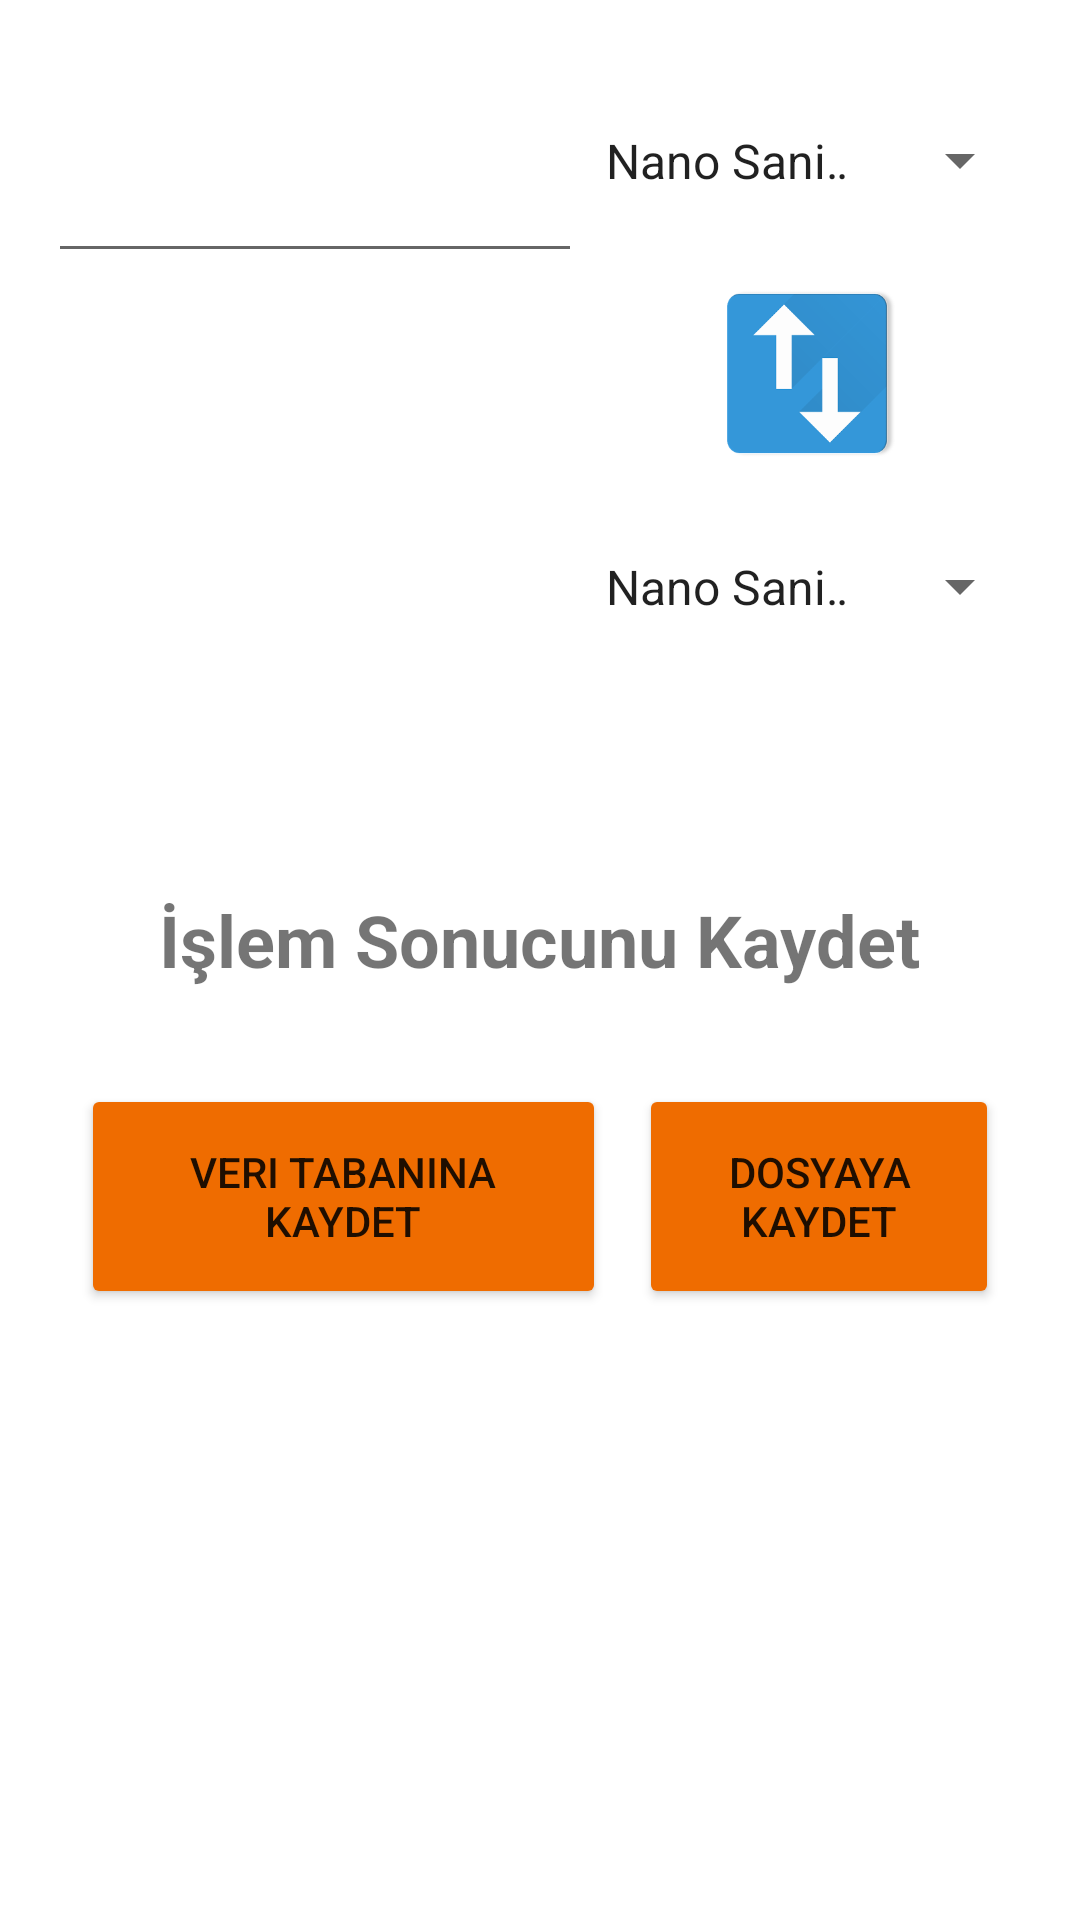

Where icons sit on this 1080x1920 app screen, as {"left": x1, "top": y1, "right": x2, "bottom": y2}:
converter: {"left": 727, "top": 294, "right": 892, "bottom": 453}
